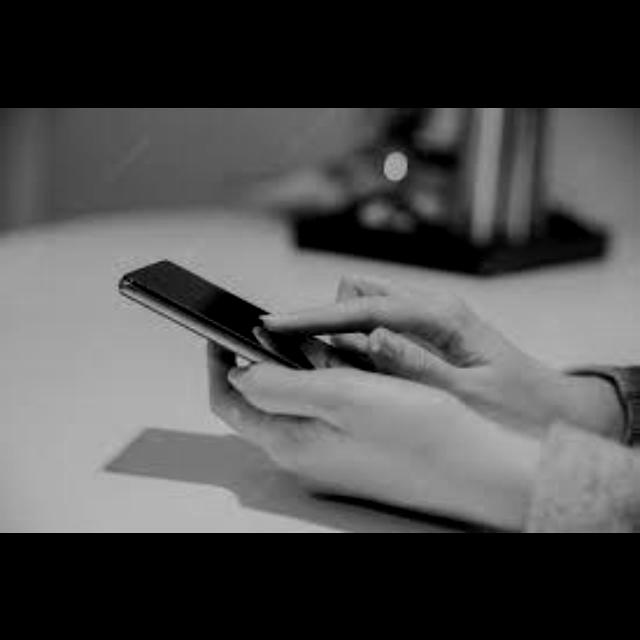fake: (94, 234, 456, 450)
